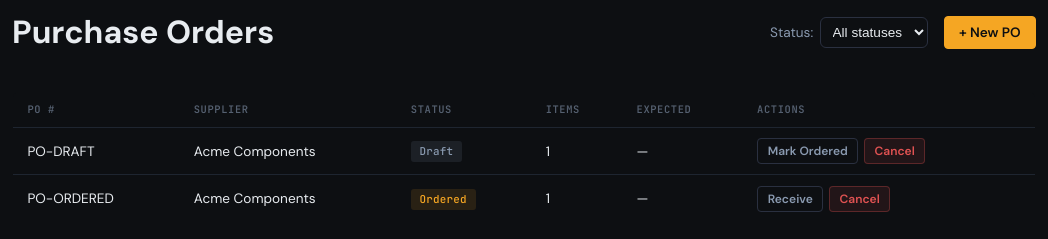
Test: PurchaseOrdersPage › filters the list by status
Check: the text "PO-DRAFT" is shown, box [12,127,179,175]
Check: the text "PO-ORDERED" is shown, box [12,175,179,223]
Select "Draft" in the dropdown at (874, 32), box [820,17,928,48]
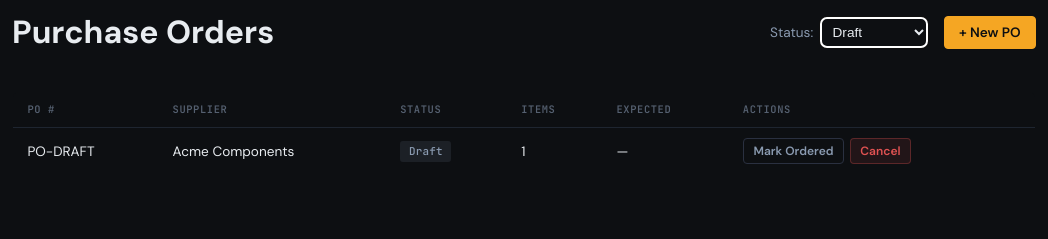
Check: the text "PO-DRAFT" is shown, box [12,127,158,175]
Check: the text "PO-ORDERED" is gone
